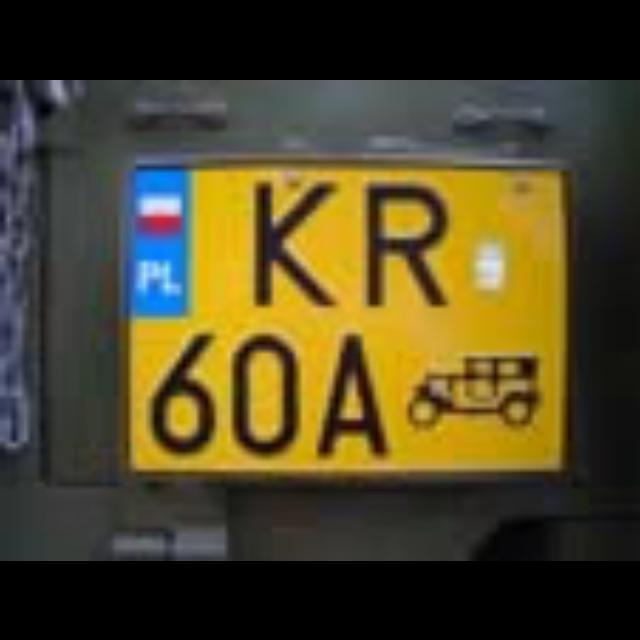pl_license_plate: (119, 152, 555, 464)
